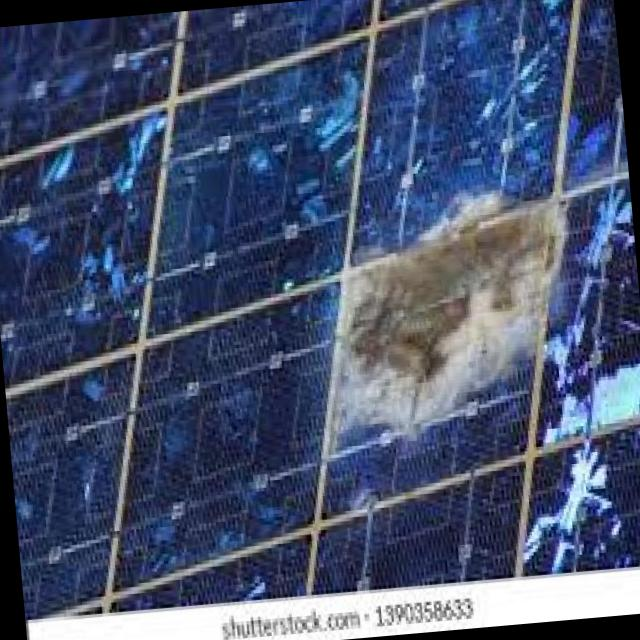faulty: (10, 17, 640, 574)
